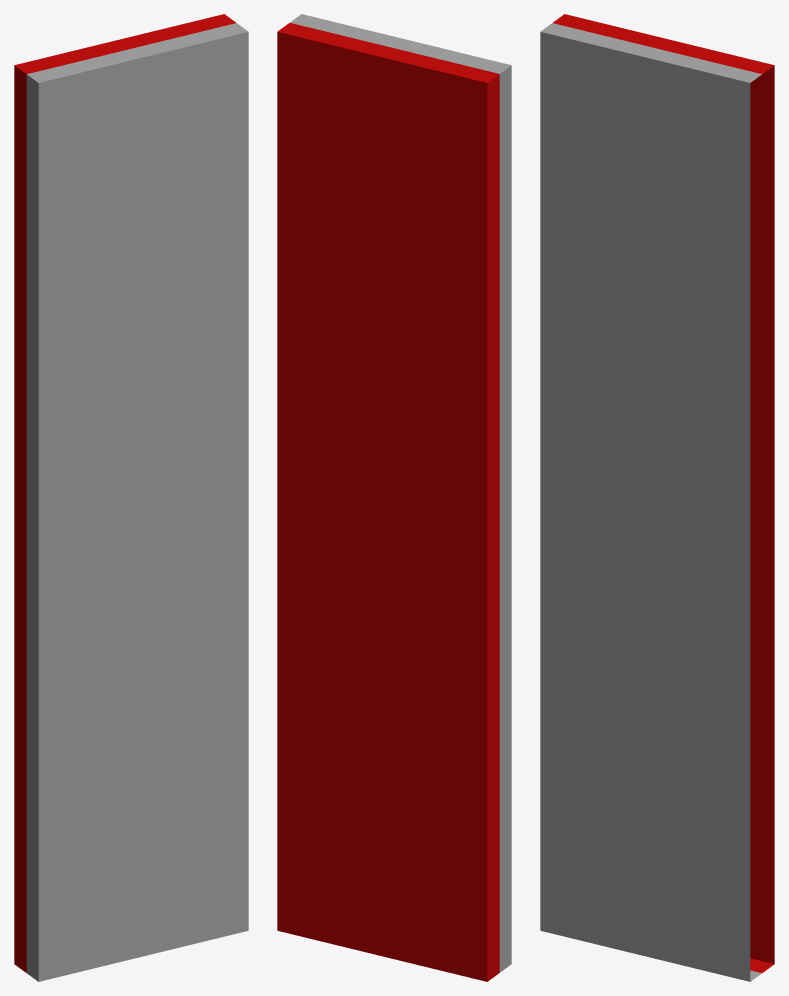
The model's file is Staircase_Wall_01_Snaps014.fbx.
The picture shows the model from 3 angles, left to right: view 1: azimuth 30°, elevation 25°; view 2: azimuth 150°, elevation 25°; view 3: azimuth 330°, elevation 25°; orthographic projection.
Visible parts, largest first — view 1: Staircase_Wall_01_LOD00; view 2: Staircase_Wall_01_LOD00; view 3: Staircase_Wall_01_LOD00.
Boxes of the visible parts, x1,y1,x2,y2 form: Staircase_Wall_01_LOD00: (14, 14, 248, 981); Staircase_Wall_01_LOD00: (277, 14, 511, 981); Staircase_Wall_01_LOD00: (540, 14, 774, 981).
Size of what is drawn, in the model's own units: 100 by 409 by 20.
